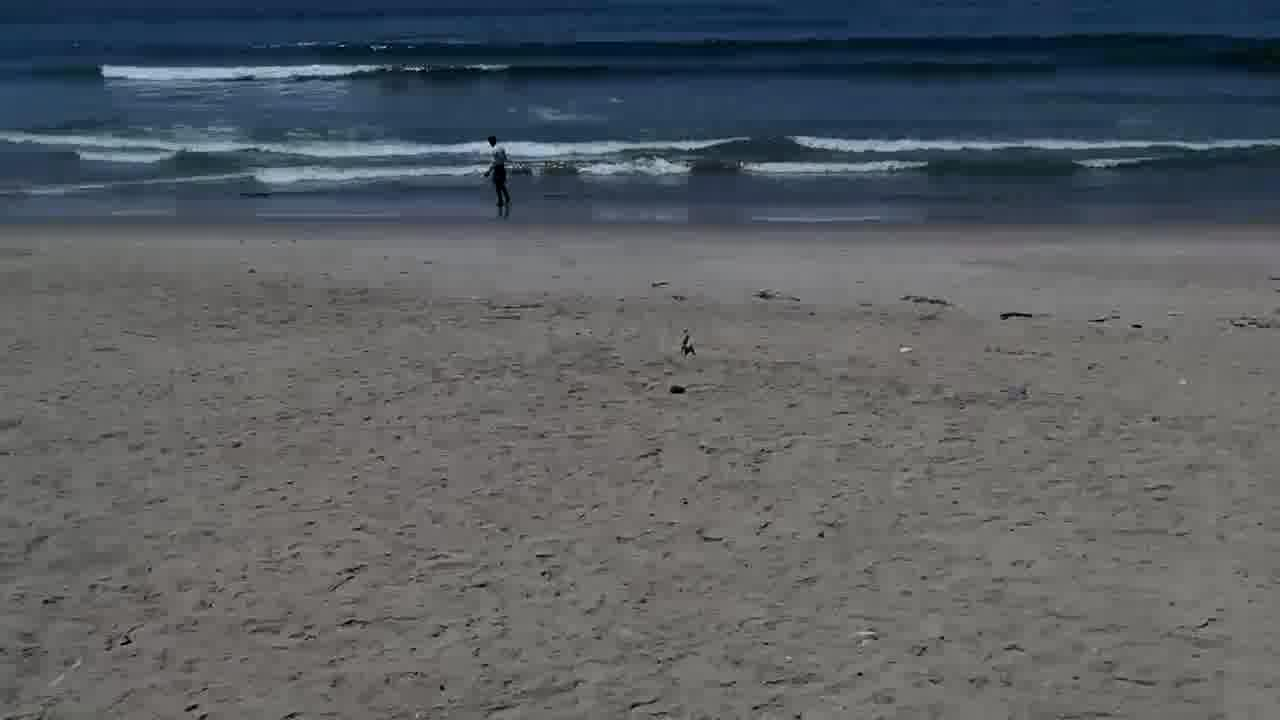large collection of objects: (481, 134, 511, 206), (680, 328, 694, 360)
sand/background: (1, 0, 1279, 254)
